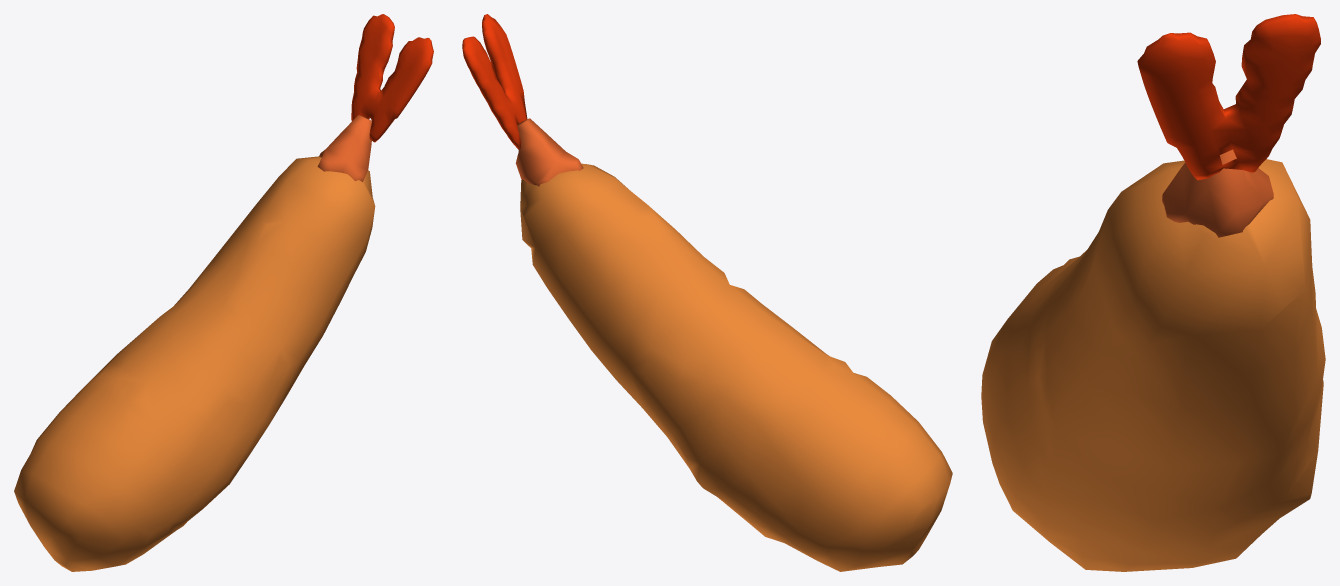
Rendered from friedShrimp.glb.
3 renders of one model, left to right at view 1: azimuth 30°, elevation 25°; view 2: azimuth 150°, elevation 25°; view 3: azimuth 270°, elevation 25°, orthographic. The views are drawn at different scales.
Parts seen in each view (by area): view 1: Cube.531; view 2: Cube.531; view 3: Cube.531.
Part boxes in pixels (x1,y1,x2,y2): Cube.531: (14,14,433,571); Cube.531: (462,14,952,571); Cube.531: (981,14,1325,571).
Bounding box in the file's own units: 1.95 × 1.97 × 0.7271.
